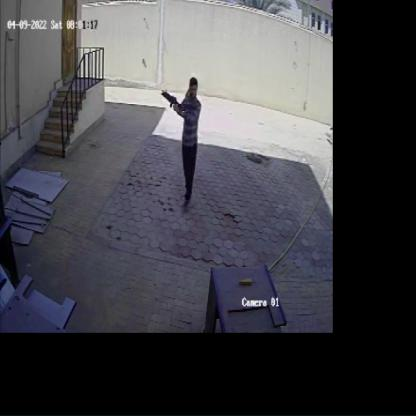handgun: (159, 86, 185, 116)
